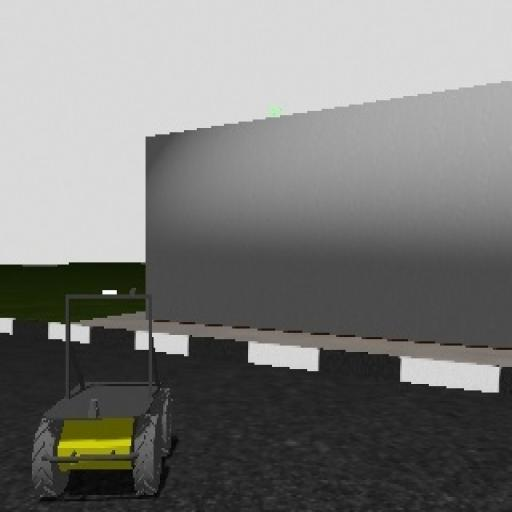huskya200: (19, 255, 188, 512)
